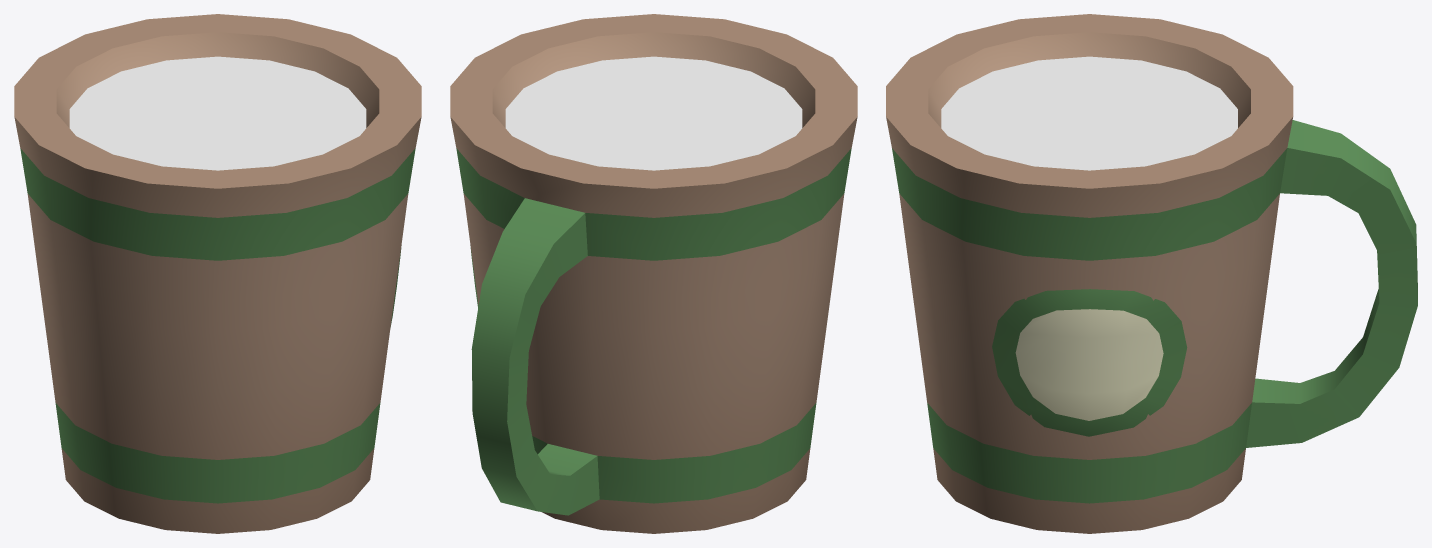
Rendered from Product Latte.fbx.
3 renders of one model, left to right at view 1: azimuth 30°, elevation 25°; view 2: azimuth 150°, elevation 25°; view 3: azimuth 270°, elevation 25°, orthographic.
Visible parts, largest first — view 1: Product_Latte; view 2: Product_Latte; view 3: Product_Latte.
Boxes of the visible parts, <box> form: Product_Latte: <box>14,14,421,533</box>; Product_Latte: <box>450,14,857,533</box>; Product_Latte: <box>886,14,1417,533</box>.
Size of the model in its own units: 104 by 102 by 134.
